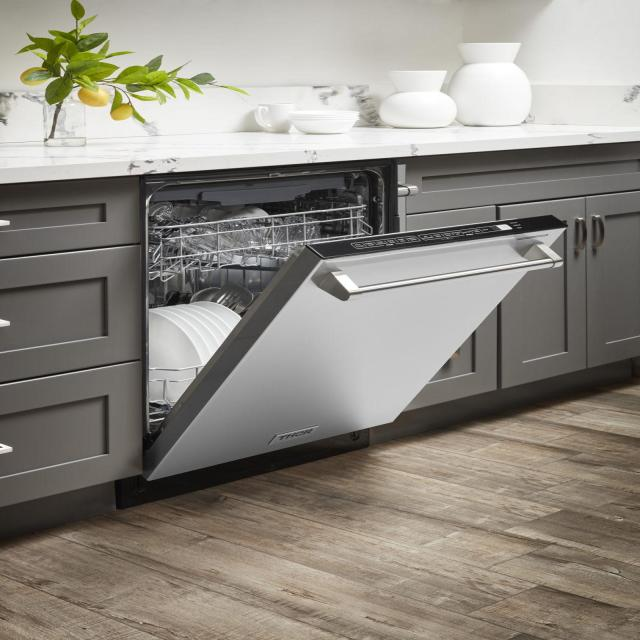dishwasher: (136, 140, 534, 533)
